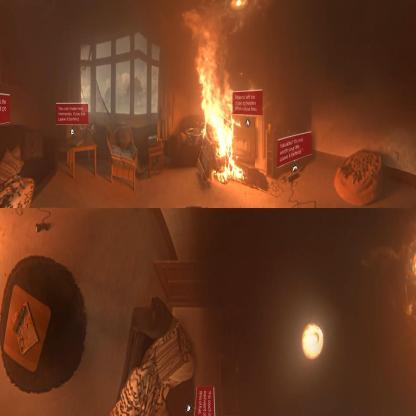fire: (192, 44, 245, 186)
